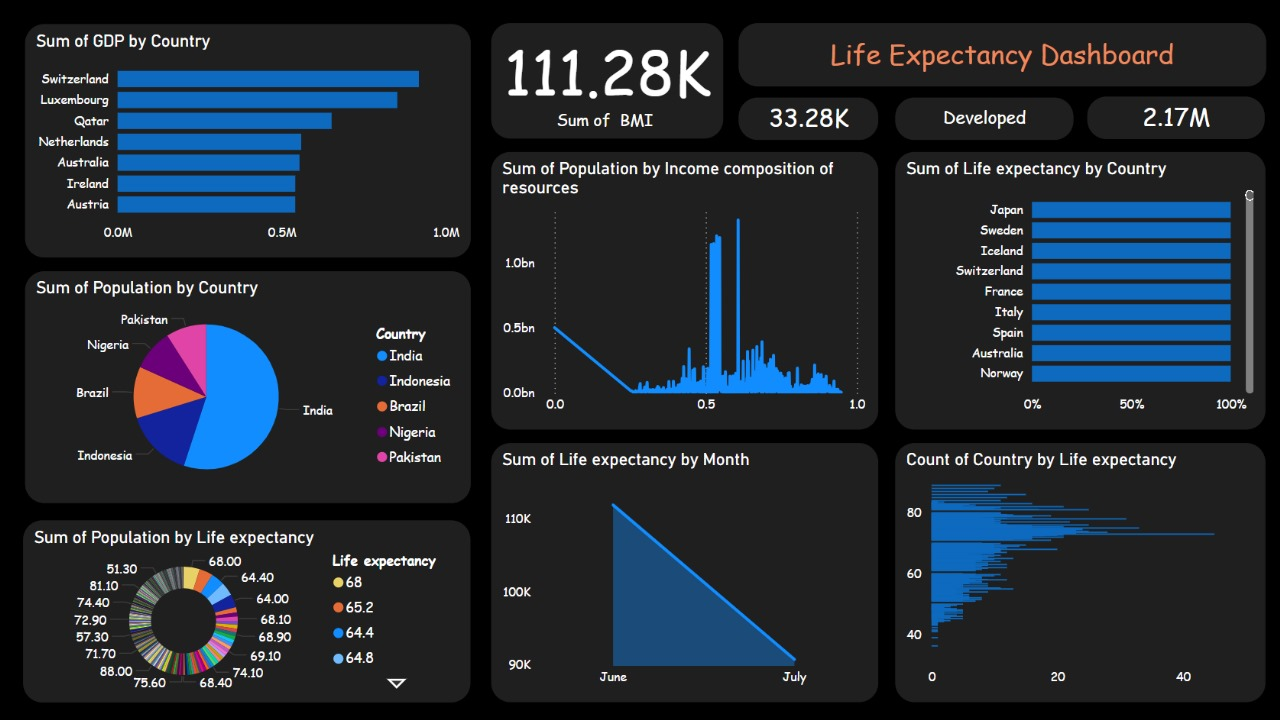

This screenshot's page, from the dashboard's own definition file:
{"tool":"powerbi","page":{"name":"Page 1","canvas":[1280,720],"ordinal":0},"visuals":[{"type":"barChart","fields":{"Y":["Sum(in.GDP)"],"Category":["in.Country"]},"box":[24.7,23.3,446,234.6],"z":0},{"type":"pieChart","fields":{"Category":["in.Country"],"Y":["Sum(in.Population)"]},"box":[24.3,270,445.7,232.9],"z":1000},{"type":"donutChart","fields":{"Category":["in.Life expectancy "],"Y":["Sum(in.Population)"]},"box":[22.9,518.6,447.1,182.9],"z":2000},{"type":"card","fields":{"Values":["Sum(in. BMI )"]},"box":[488.6,22.9,232.9,117.1],"z":3000},{"type":"lineChart","fields":{"Category":["in.Income composition of resources"],"Y":["Sum(in.Population)"]},"box":[488.6,151.4,387.1,278.6],"z":4000},{"type":"barChart","fields":{"Y":["CountNonNull(in.Country)"],"Category":["in.Life expectancy "]},"box":[891.4,441.4,370,260],"z":5000},{"type":"hundredPercentStackedBarChart","fields":{"Category":["in.Country"],"Y":["Sum(in.Life expectancy )"]},"box":[891.4,151.4,370,278.6],"z":6000},{"type":"areaChart","fields":{"Category":["in.Year.Variation.Date Hierarchy.Month","in.Year.Variation.Date Hierarchy.Day"],"Y":["Sum(in.Life expectancy )"]},"box":[488.6,441.4,387.1,260],"z":7000},{"type":"textbox","box":[735,23,527,65],"z":8000},{"type":"card","fields":{"Values":["Sum(in.Schooling)"]},"box":[735,97,141,44],"z":9000},{"type":"card","fields":{"Values":["Sum(in.percentage expenditure)"]},"box":[1082.7,96,178.7,44],"z":10000},{"type":"card","fields":{"Values":["Min(in.Status)"]},"box":[891.3,97.3,179.3,44],"z":11000}]}

Visuals, with their boxes in screenshot pixels (x1, y1, x2, y2), scaled from the page's 1280x720 canvas onto the 1280x720 screenshot:
barChart - Sum(in.GDP) x in.Country: region(25, 23, 471, 258)
pieChart - in.Country x Sum(in.Population): region(24, 270, 470, 503)
donutChart - in.Life expectancy  x Sum(in.Population): region(23, 519, 470, 702)
card - Sum(in. BMI ): region(489, 23, 722, 140)
lineChart - in.Income composition of resources x Sum(in.Population): region(489, 151, 876, 430)
barChart - CountNonNull(in.Country) x in.Life expectancy : region(891, 441, 1261, 701)
hundredPercentStackedBarChart - in.Country x Sum(in.Life expectancy ): region(891, 151, 1261, 430)
areaChart - in.Year.Variation.Date Hierarchy.Month x in.Year.Variation.Date Hierarchy.Day: region(489, 441, 876, 701)
textbox: region(735, 23, 1262, 88)
card - Sum(in.Schooling): region(735, 97, 876, 141)
card - Sum(in.percentage expenditure): region(1083, 96, 1261, 140)
card - Min(in.Status): region(891, 97, 1071, 141)
